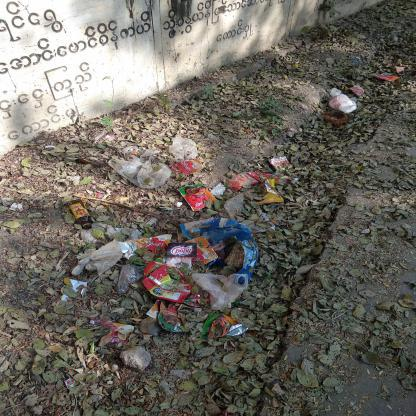cam: (200, 325, 230, 349)
plastik: (267, 225, 305, 276), (185, 199, 213, 241), (243, 220, 275, 251), (89, 60, 115, 89)
